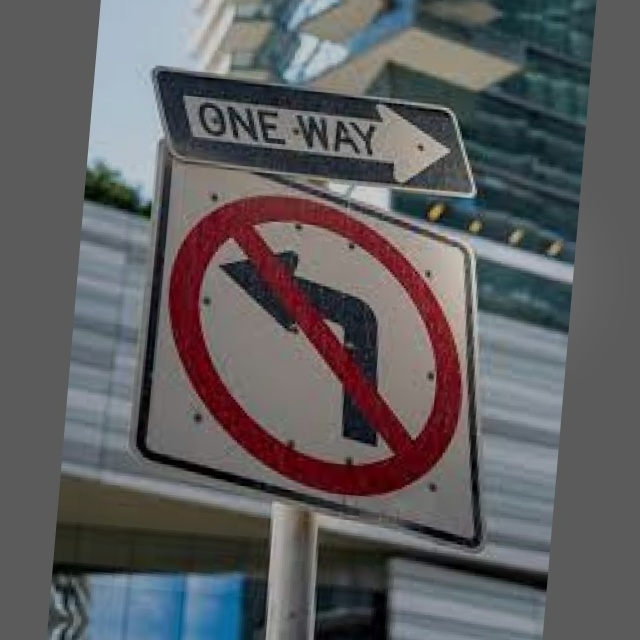Left_Turn_Prohibited: (149, 165, 488, 512)
